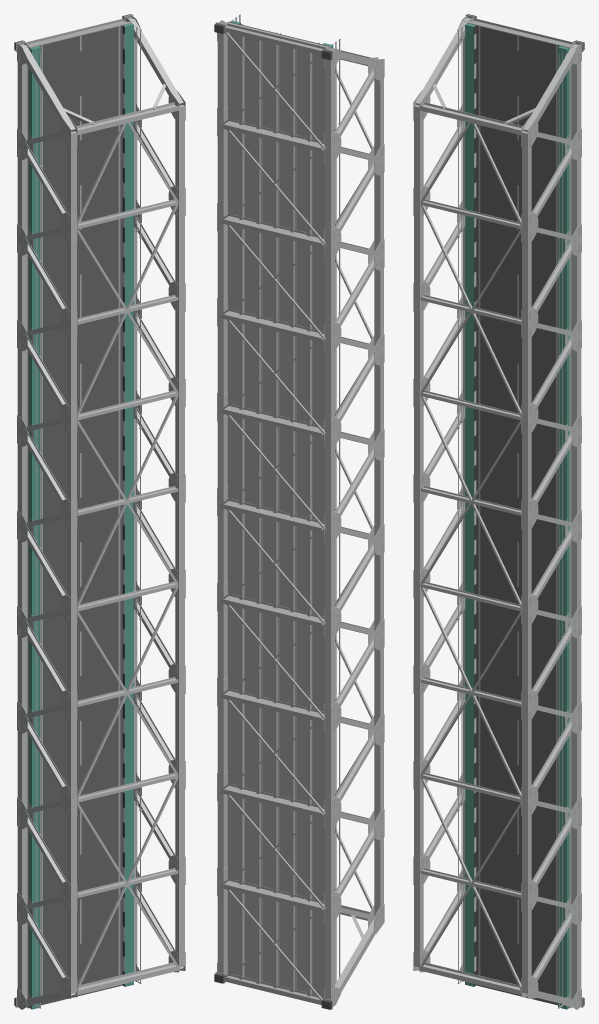
The picture shows the model from 3 angles, left to right: view 1: azimuth 30°, elevation 25°; view 2: azimuth 150°, elevation 25°; view 3: azimuth 330°, elevation 25°; orthographic projection.
Visible parts, largest first — view 1: B1_baja, B1_aspal, B1_kerb, B1_merah_lantai, B1_marka_putih_lantai, B1_beton, B1_hitam, B1_putih, B1_baut, B1_marka_kuning_lantai, B1_baja_bawah; view 2: B1_beton, B1_baja_bawah, B1_baja, B1_merah_lantai, B1_baut; view 3: B1_baja, B1_aspal, B1_kerb, B1_merah_lantai, B1_marka_putih_lantai, B1_beton, B1_hitam, B1_putih, B1_baut, B1_marka_kuning_lantai, B1_baja_bawah.
Boxes of the visible parts, x1,y1,x2,y2 form: B1_baja: [17, 16, 185, 1009]; B1_aspal: [39, 25, 122, 1005]; B1_kerb: [29, 23, 133, 1009]; B1_merah_lantai: [32, 25, 142, 1008]; B1_marka_putih_lantai: [41, 25, 120, 995]; B1_beton: [27, 22, 130, 1006]; B1_hitam: [122, 25, 124, 986]; B1_putih: [122, 33, 124, 971]; B1_baut: [17, 31, 177, 1004]; B1_marka_kuning_lantai: [80, 35, 81, 943]; B1_baja_bawah: [15, 14, 133, 1007]; B1_beton: [227, 22, 330, 996]; B1_baja_bawah: [215, 22, 332, 1009]; B1_baja: [217, 20, 384, 1006]; B1_merah_lantai: [232, 14, 340, 983]; B1_baut: [224, 35, 383, 997]; B1_baja: [413, 16, 581, 1009]; B1_aspal: [476, 25, 559, 1005]; B1_kerb: [465, 23, 569, 1009]; B1_merah_lantai: [456, 25, 566, 1008]; B1_marka_putih_lantai: [478, 25, 557, 995]; B1_beton: [468, 22, 571, 1007]; B1_hitam: [474, 25, 476, 986]; B1_putih: [474, 33, 476, 971]; B1_baut: [421, 31, 581, 1004]; B1_marka_kuning_lantai: [517, 35, 518, 943]; B1_baja_bawah: [465, 14, 583, 1007].
Bounding box in the file's own units: 8.24 × 64.82 × 6.95.
